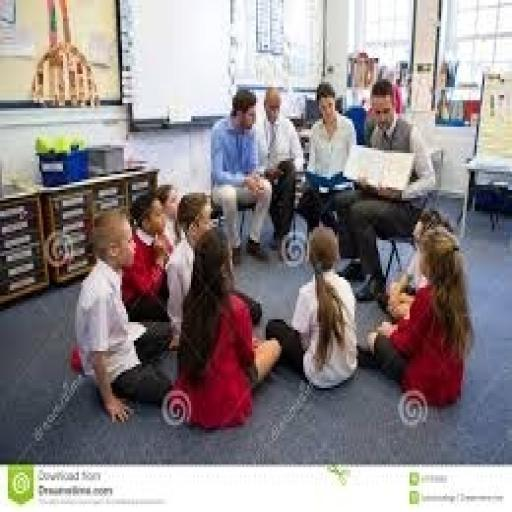sitting: (69, 74, 475, 430), (162, 224, 282, 433), (69, 206, 175, 425), (341, 76, 439, 304), (362, 222, 474, 409), (264, 222, 358, 390), (163, 190, 262, 348), (206, 87, 274, 267), (298, 79, 358, 248), (254, 84, 305, 262), (118, 187, 173, 322)
